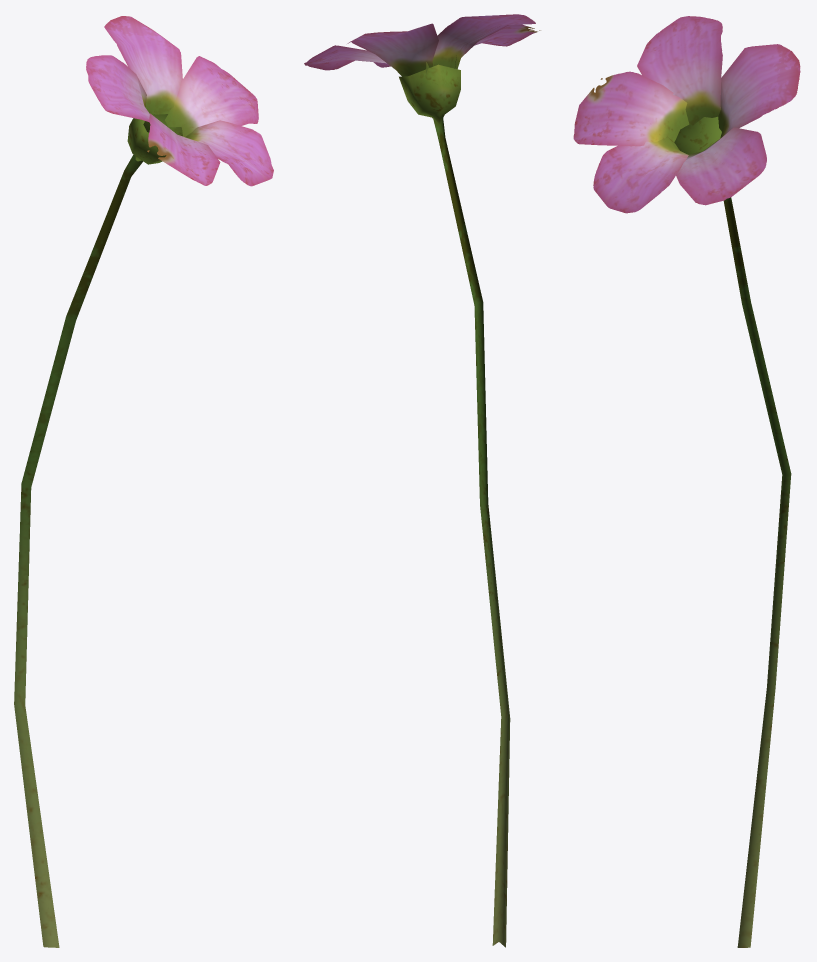
Rendered from Sorrel_K.fbx.
The picture shows the model from 3 angles, left to right: view 1: azimuth 30°, elevation 25°; view 2: azimuth 150°, elevation 25°; view 3: azimuth 270°, elevation 25°; orthographic projection. The views are drawn at different scales.
Visible parts, largest first — view 1: Sorrel_K; view 2: Sorrel_K; view 3: Sorrel_K.
Part boxes in pixels (x1,y1,x2,y2): Sorrel_K: (14, 16, 273, 947); Sorrel_K: (304, 14, 540, 947); Sorrel_K: (573, 16, 800, 947).
Bounding box in the file's own units: 0.0312 × 0.12 × 0.027.
1 material, 1 textured.
